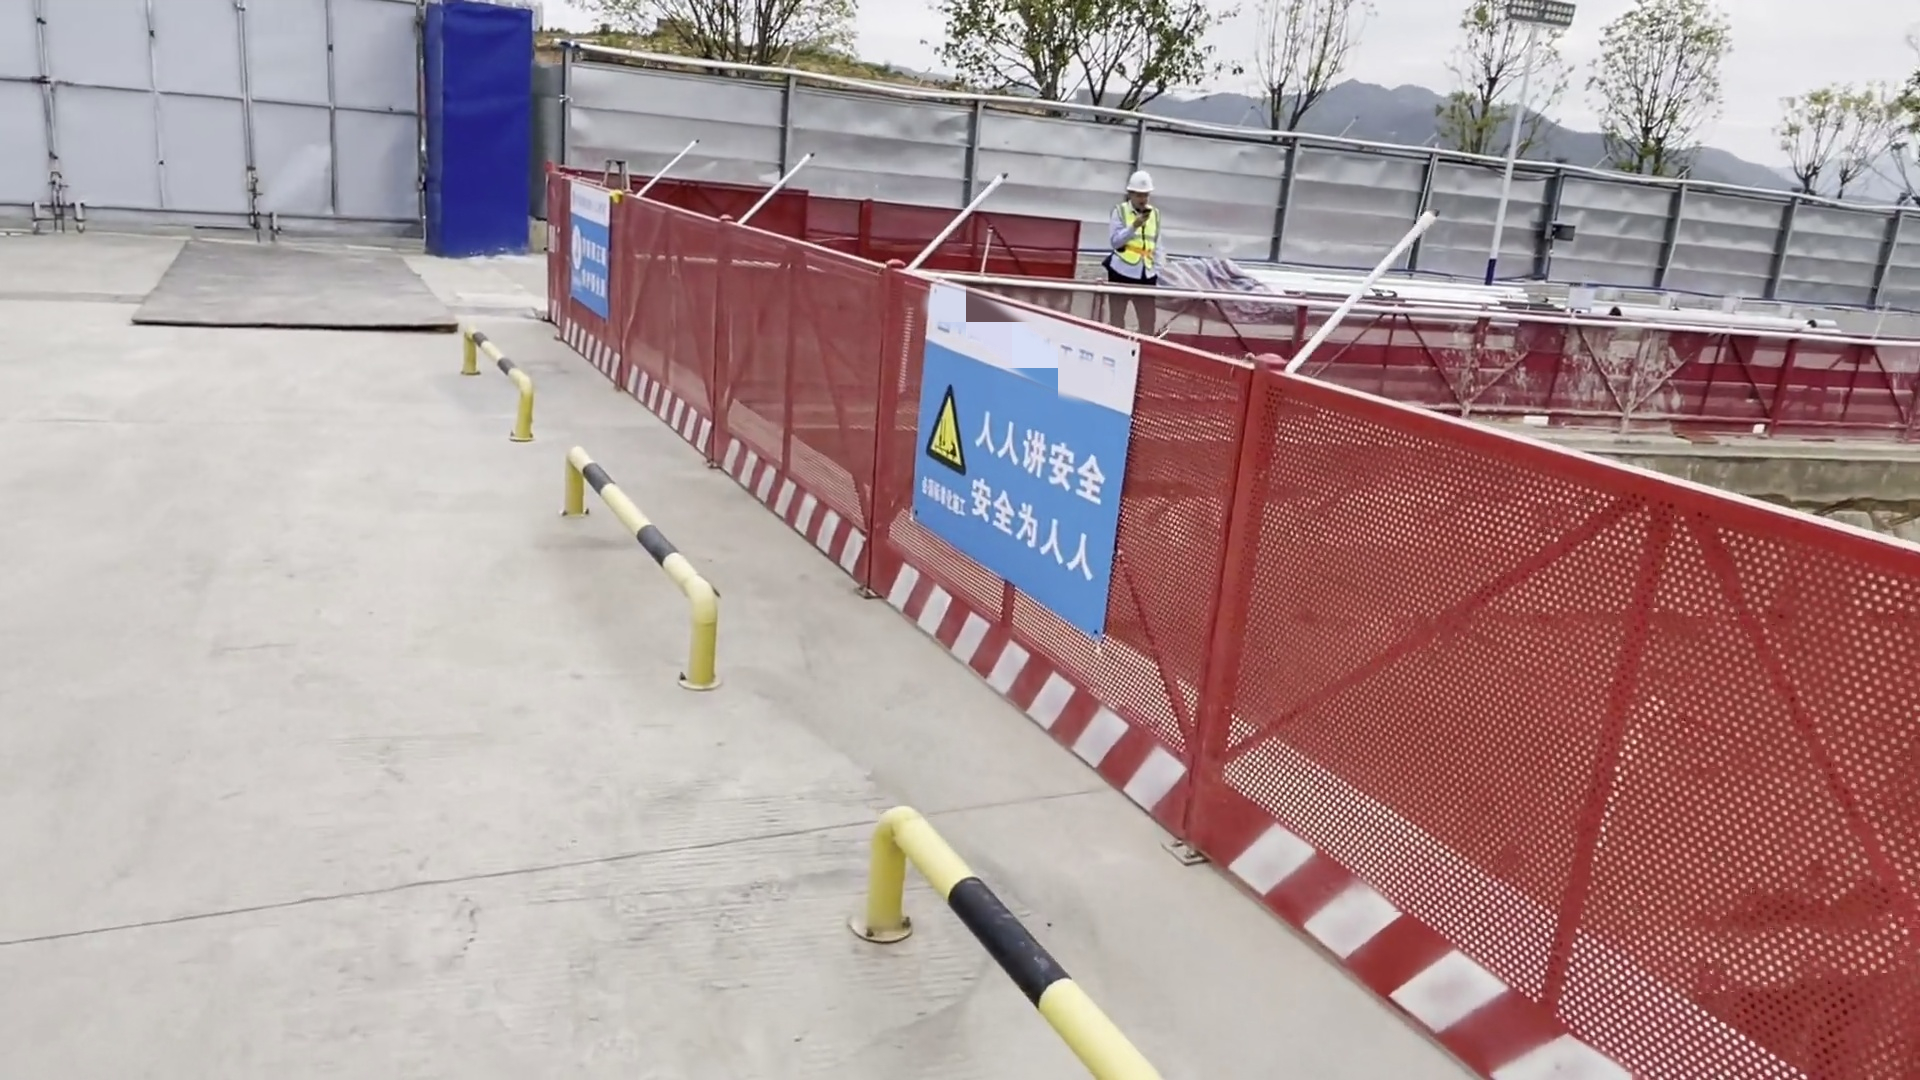fence: (1207, 355, 1915, 1080), (885, 201, 1206, 823), (722, 178, 881, 569), (549, 164, 720, 438)
helmet: (1125, 170, 1157, 192)
person: (1105, 169, 1162, 335)
slogan: (916, 282, 1141, 634), (565, 177, 617, 314)
vest: (1117, 196, 1155, 265)
